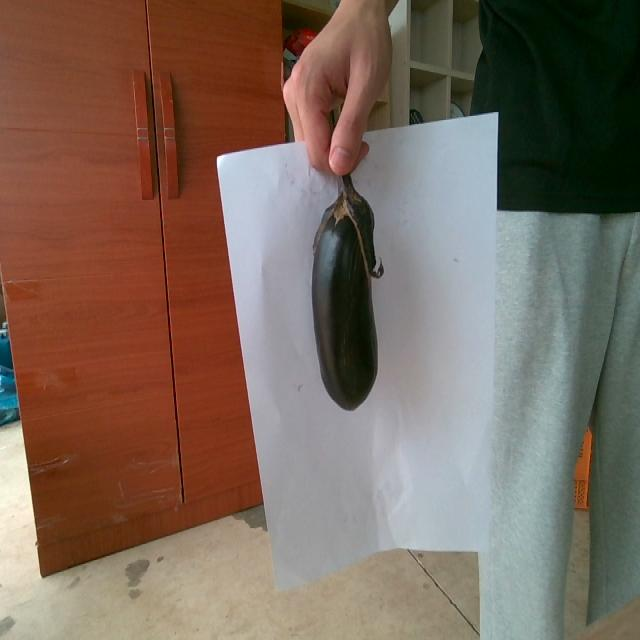Egg plant: (312, 175, 383, 409)
